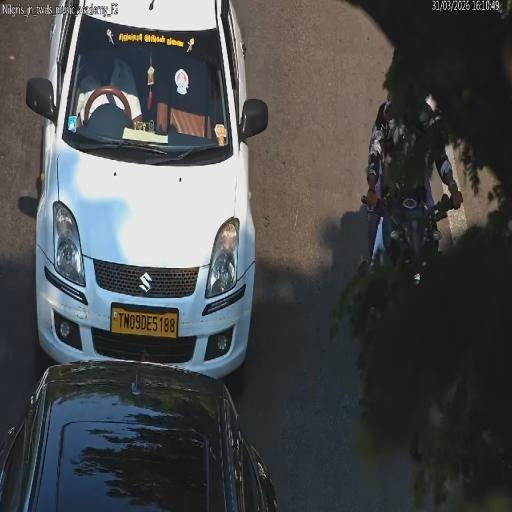person_with_seatbelt: (88, 48, 117, 106)
